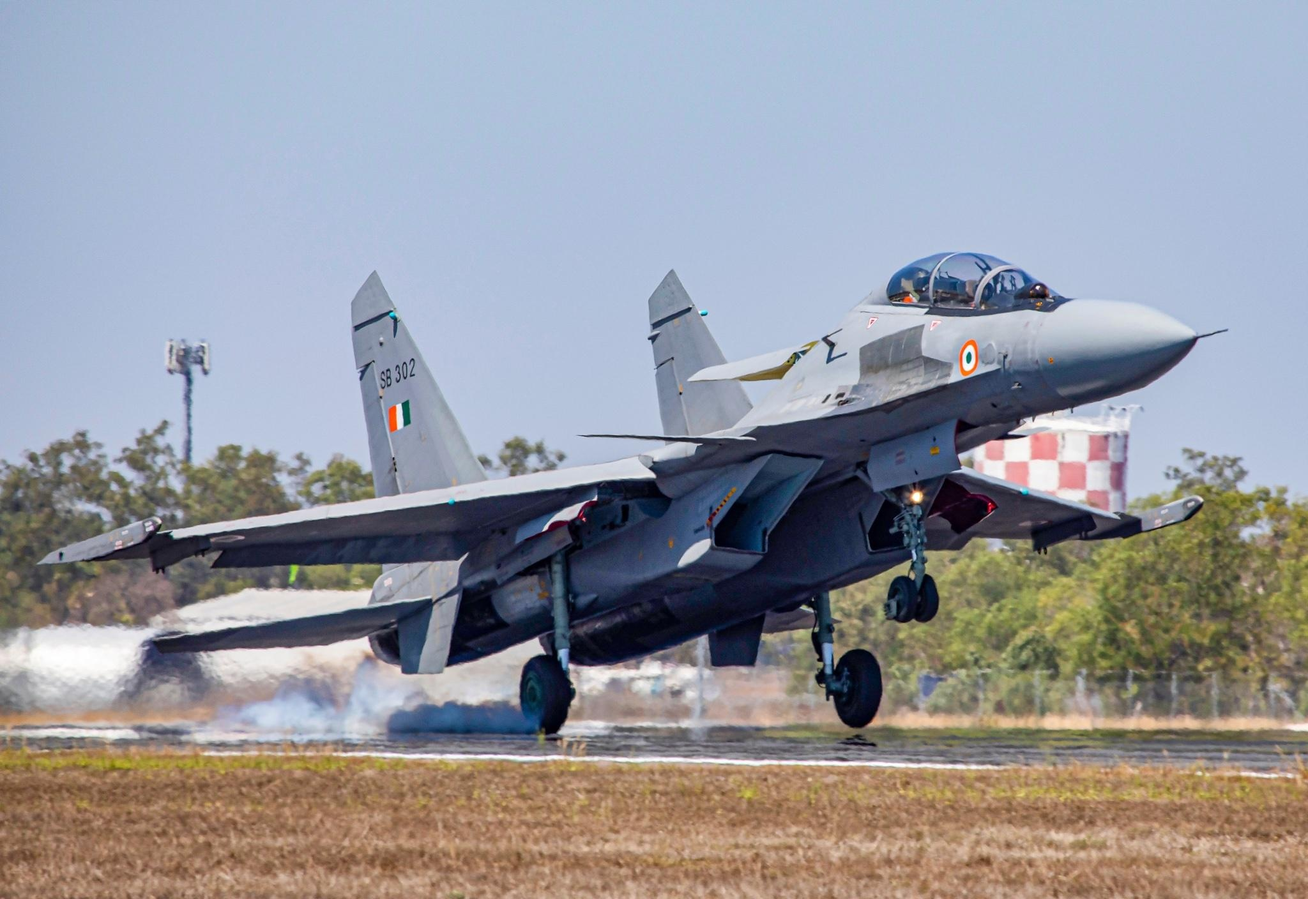aircraft: (49, 250, 1243, 743)
